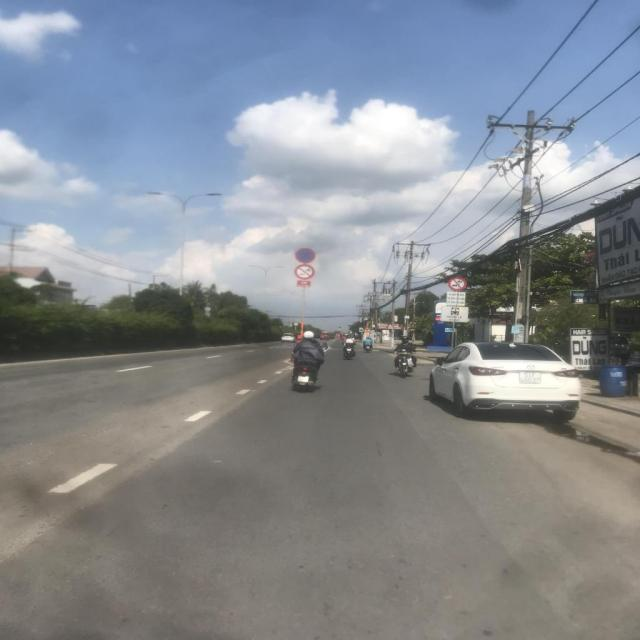cam_do_xe: (361, 329, 363, 332)
cam_dung_xe_va_do_xe: (296, 248, 316, 263)
cam_o_to_tai_va_xe_khach: (448, 277, 467, 291)
cam_xe_2_banh_va_xe_3_banh_co_dong_co: (294, 264, 314, 280)
chu_y_tre_em: (365, 330, 370, 332)
giao_nhau_voi_duong_khong_uu_tien: (365, 326, 370, 329)
khac: (440, 306, 469, 323), (447, 292, 466, 306)
